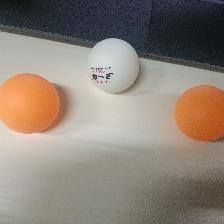WhiteBall: (86, 37, 140, 94)
YellowBall: (0, 73, 60, 134), (172, 84, 224, 141)
